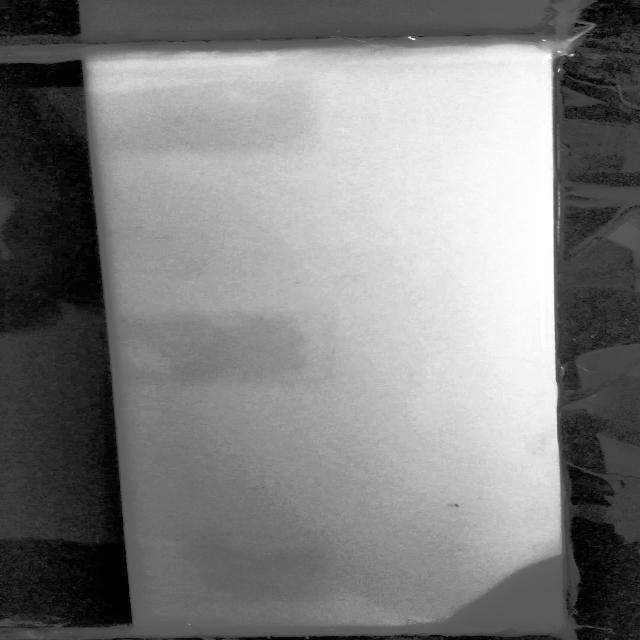shrimp: (436, 494, 474, 517)
